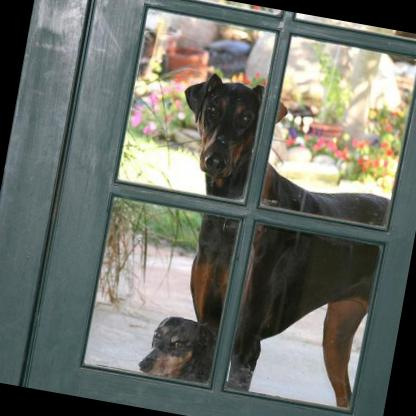Doberman: (130, 65, 406, 412), (134, 309, 219, 388)
